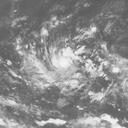cyclone: (33, 38, 89, 89)
